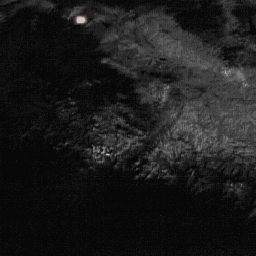Target: (74, 14, 88, 25)
